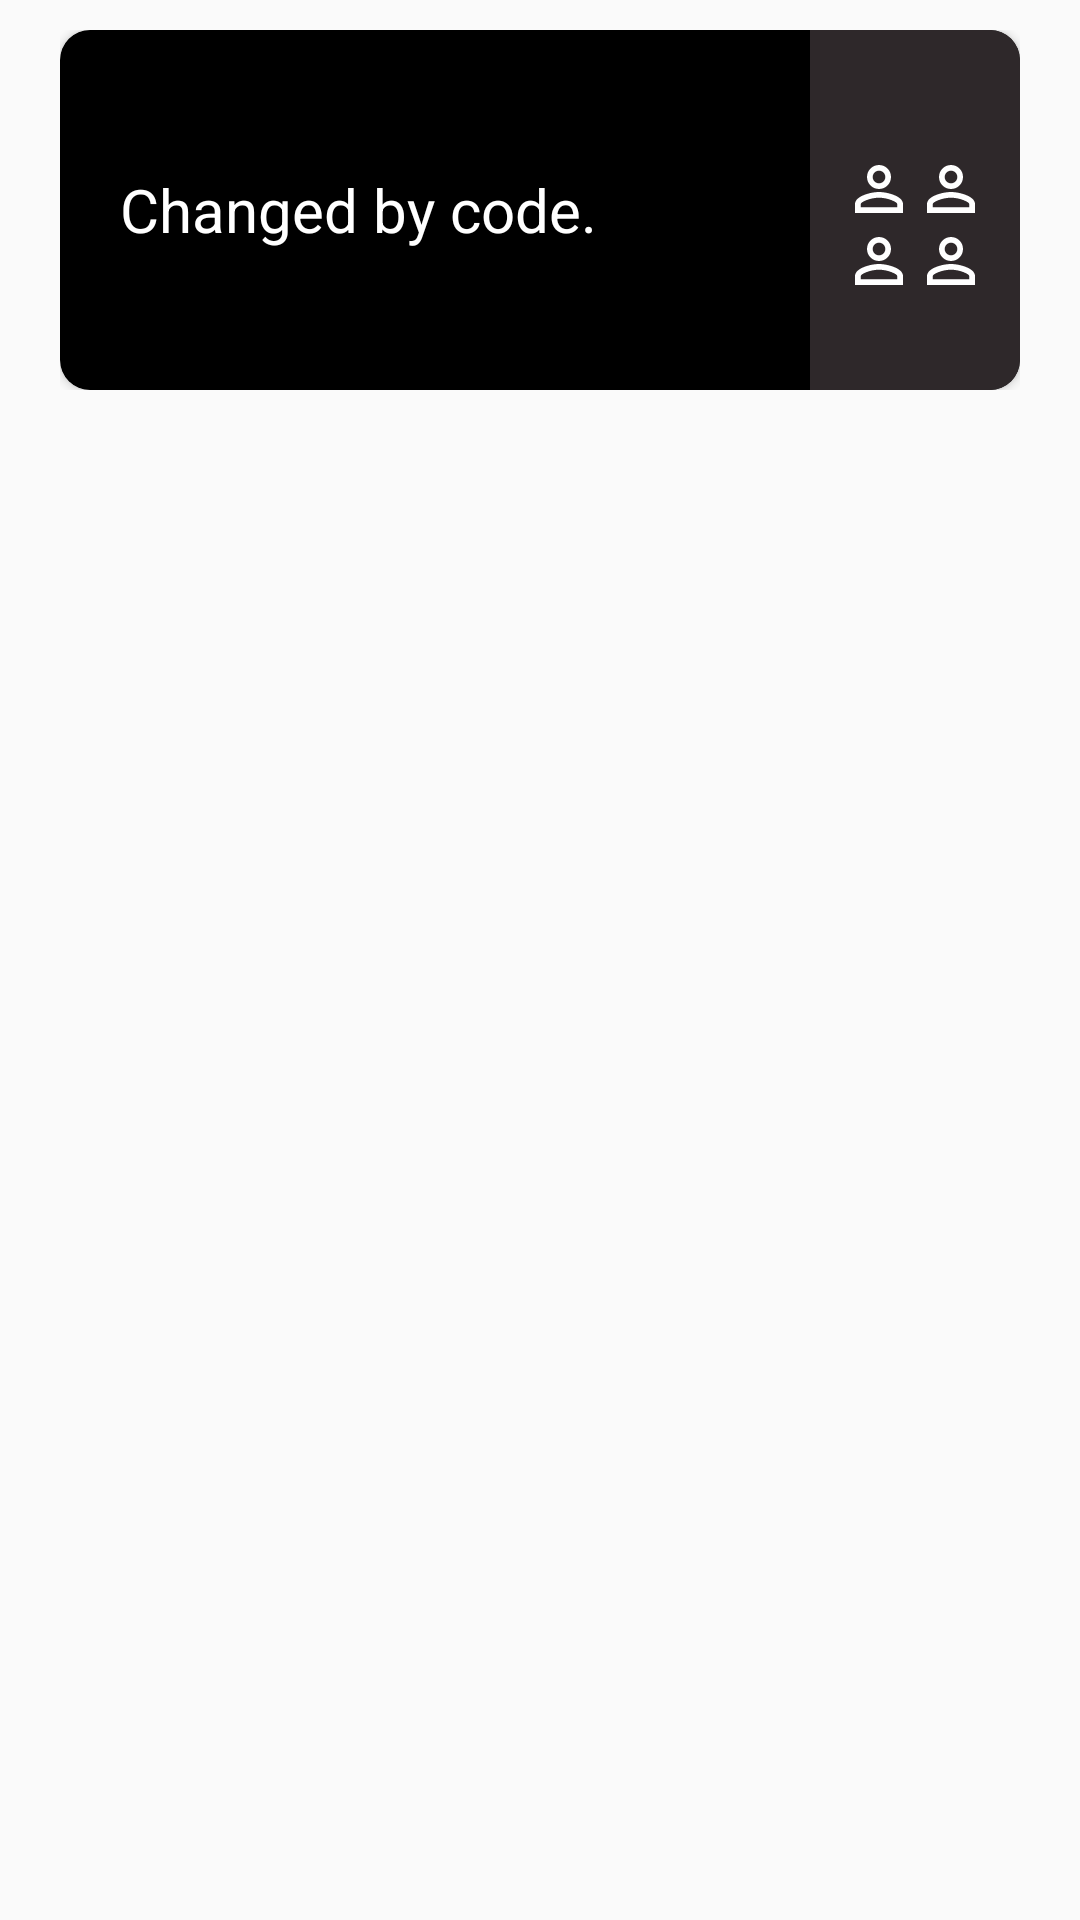

Point at icon controls on the screen. Image size 1080 × 1920, points as point (x, y).
person: point (879, 189), point (951, 189), point (879, 261), point (951, 261)
